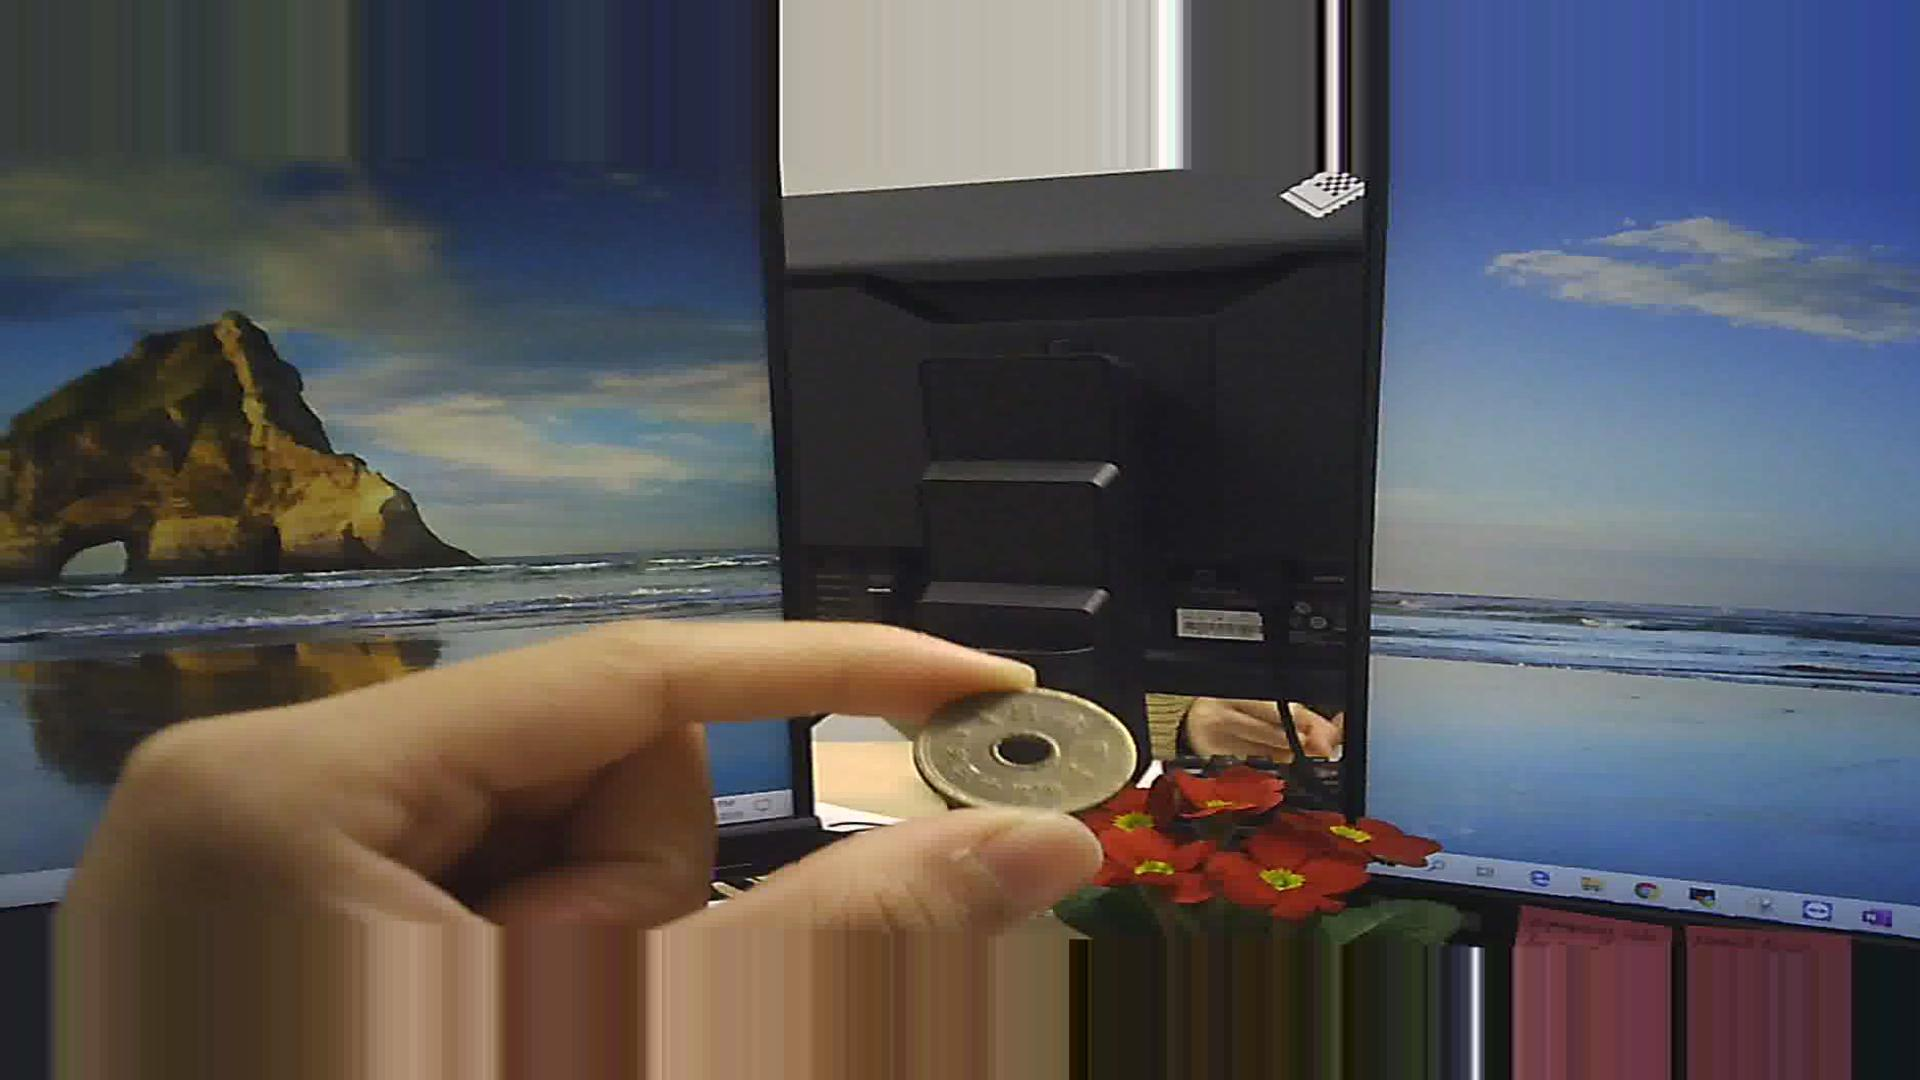5 Yen: (906, 680, 1139, 824)
